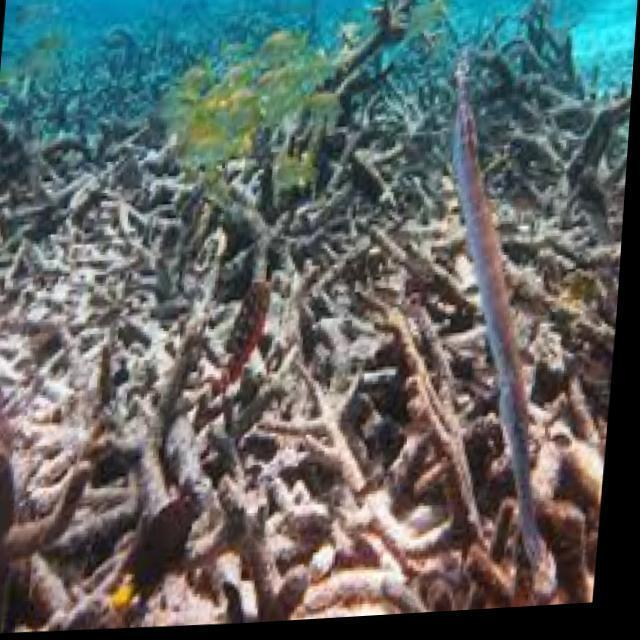Dead Coral: (41, 241, 626, 637), (283, 0, 469, 230), (491, 0, 640, 222), (0, 102, 165, 249)
